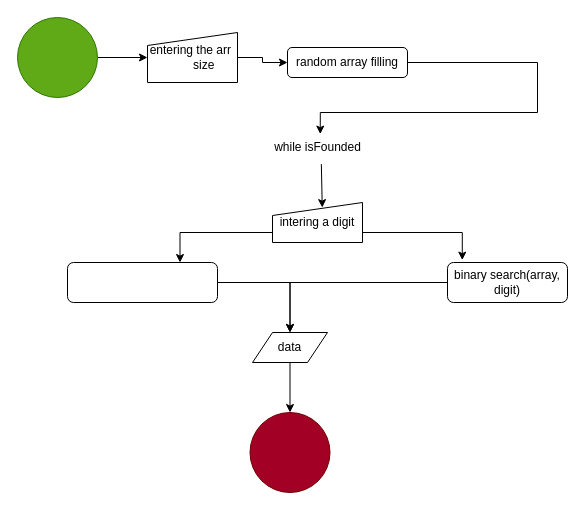
The diagram is 585 pixels wide and 510 high, and some of its shapes have lost their labels. The shapes that lost their labels are listed below. From the top down, each one's box as (x1, y1, x2, y2) in pixels, then its label:
(16, 16, 98, 98): startProgramm
(66, 262, 218, 302): usuall search(array, digit)
(249, 412, 330, 492): end programm
